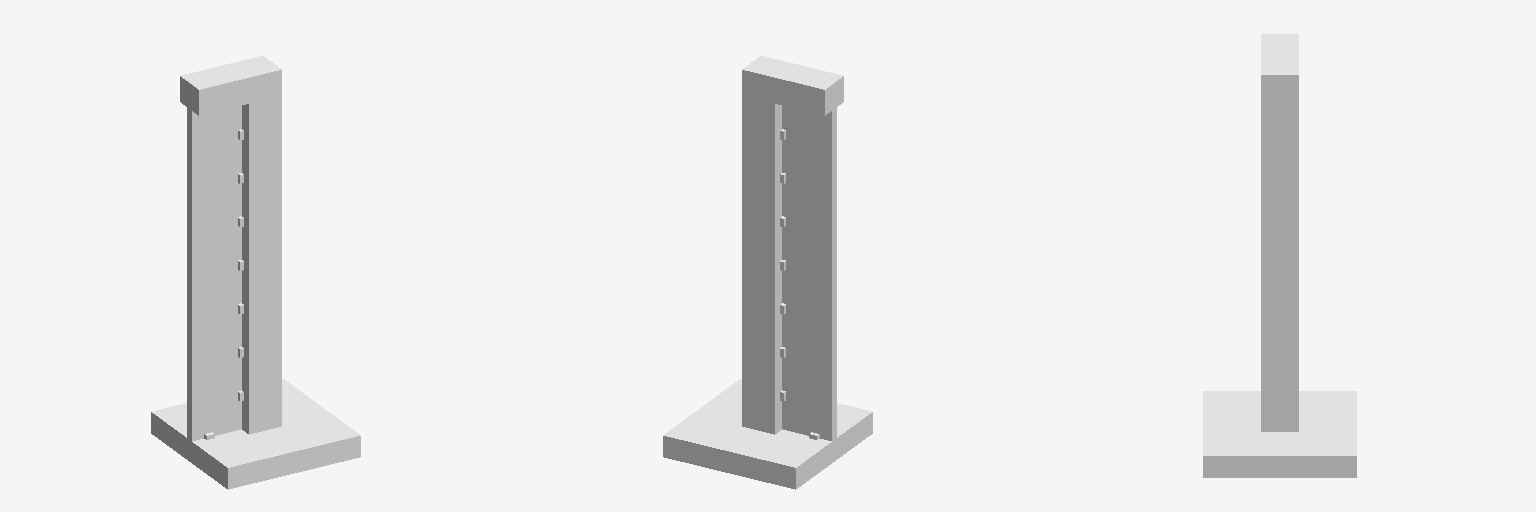
Rendered from Portal_1.3.1.obj.
3 renders of one model, left to right at view 1: azimuth 30°, elevation 25°; view 2: azimuth 150°, elevation 25°; view 3: azimuth 270°, elevation 25°, orthographic.
Parts seen in each view (by area): view 1: object 1; view 2: object 1; view 3: object 1.
Boxes of the visible parts, x1=… form: object 1: x1=151, y1=56, x2=360, y2=489; object 1: x1=663, y1=56, x2=872, y2=489; object 1: x1=1203, y1=34, x2=1356, y2=477.
Size of the model in its own units: 3.2 by 8.7 by 3.2.